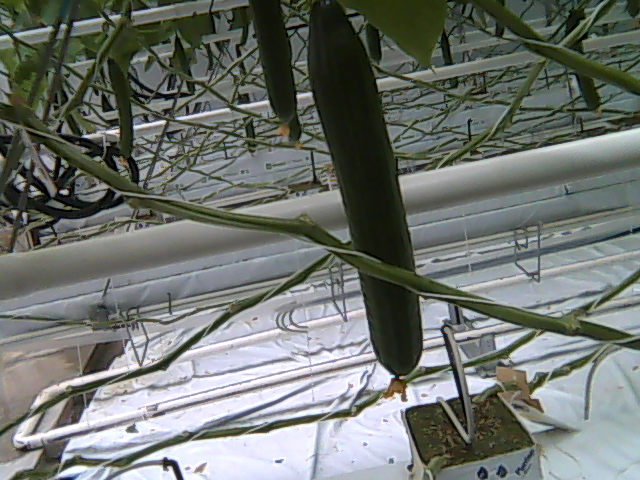concombre: (305, 1, 426, 402)
